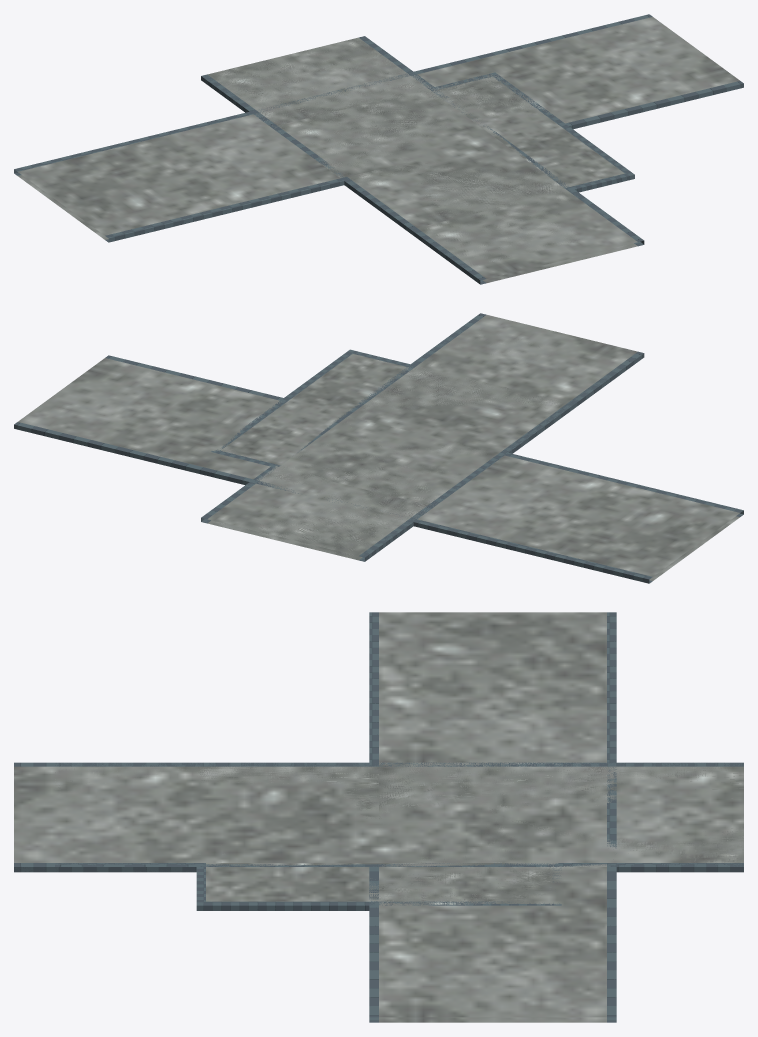
The model's file is RoadPack.fbx.
3 views of the same model, one above another, from view 1: azimuth 30°, elevation 25°; view 2: azimuth 150°, elevation 25°; view 3: azimuth 270°, elevation 25° (orthographic). The views are drawn at different scales.
Visible parts, largest first — view 1: BasicRoad L2, BasicRoad L1, BasicRoad BigRoad, BasicRoad 4, BasicRoad 2, BasicRoad 3, BasicRoad 1, BasicRoad Curved, BasicRoad 1/2; view 2: BasicRoad L1, BasicRoad L2, BasicRoad BigRoad, BasicRoad 4, BasicRoad 1, BasicRoad 2, BasicRoad Curved, BasicRoad 3, BasicRoad 1/2; view 3: BasicRoad L1, BasicRoad BigRoad, BasicRoad L2, BasicRoad 4, BasicRoad Curved, BasicRoad 1, BasicRoad 2, BasicRoad 3.
Boxes of the visible parts, x1,y1,x2,y2 form: BasicRoad L2: (14,73,644,284); BasicRoad L1: (306,14,743,281); BasicRoad BigRoad: (201,38,643,284); BasicRoad 4: (202,36,432,126); BasicRoad 2: (341,164,568,229); BasicRoad 3: (271,87,462,177); BasicRoad 1: (411,190,641,284); BasicRoad Curved: (465,229,643,283); BasicRoad 1/2: (448,215,640,283); BasicRoad L1: (14,325,625,502); BasicRoad L2: (254,326,743,583); BasicRoad BigRoad: (201,329,586,561); BasicRoad 4: (201,468,434,561); BasicRoad 1: (411,325,627,403); BasicRoad 2: (342,364,573,419); BasicRoad Curved: (465,313,643,364); BasicRoad 3: (274,416,456,506); BasicRoad 1/2: (446,325,627,377); BasicRoad L1: (15,762,616,1022); BasicRoad BigRoad: (15,762,743,910); BasicRoad L2: (55,612,616,866); BasicRoad 4: (562,762,743,872); BasicRoad Curved: (14,762,54,866); BasicRoad 1: (14,762,196,872); BasicRoad 2: (196,762,378,866); BasicRoad 3: (379,762,561,866).
Size of the model in its own units: 3150 by 20 by 2400.
